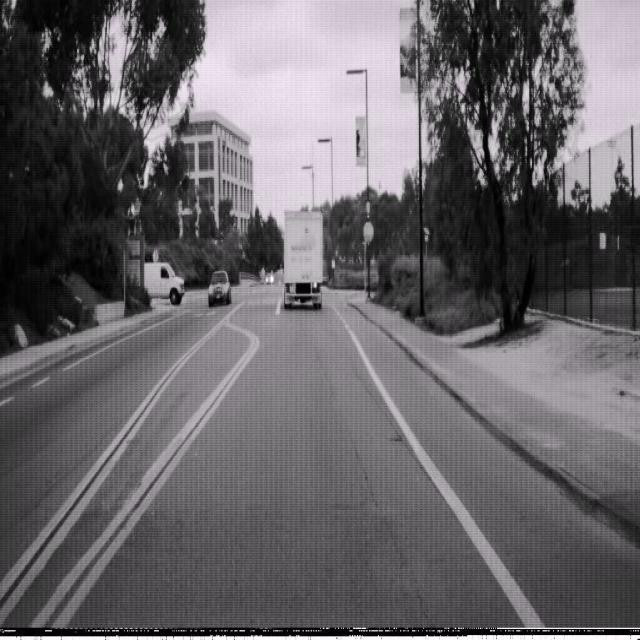stop: (362, 219, 373, 243)
